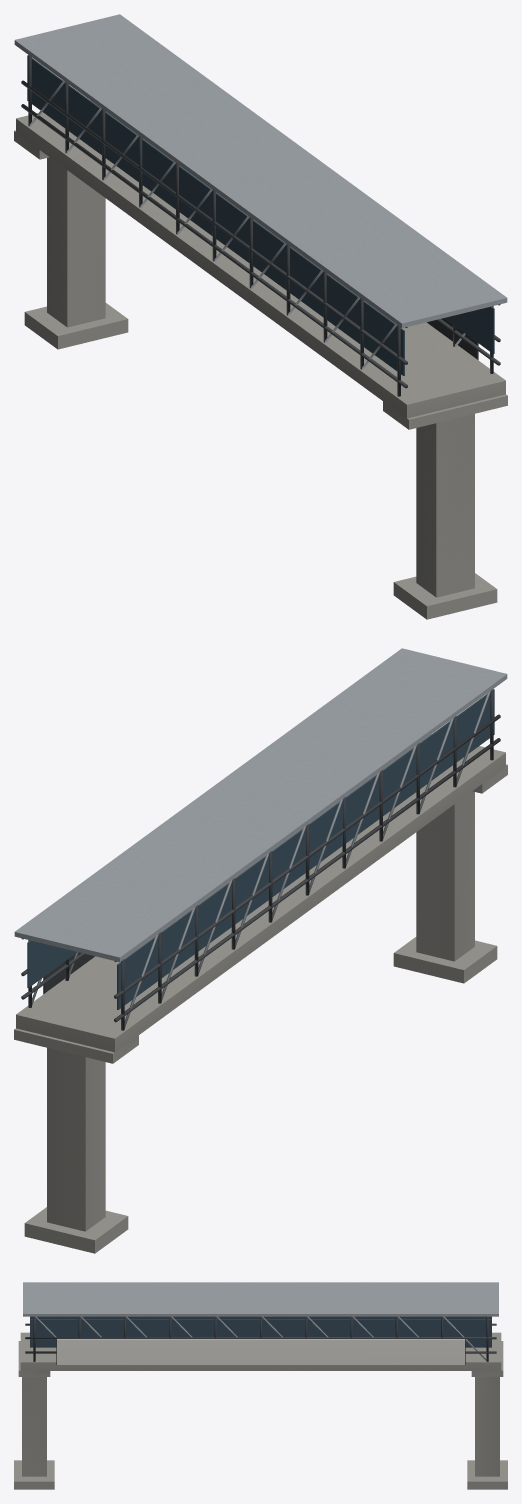
File: pedestrian-bridge_mobile.glb
3 renders of one model, top to bottom at view 1: azimuth 30°, elevation 25°; view 2: azimuth 150°, elevation 25°; view 3: azimuth 270°, elevation 25°, orthographic. The views are drawn at different scales.
Visible parts, largest first — view 1: concrete, galvanised, glazing, dark-steel; view 2: galvanised, concrete, glazing, dark-steel; view 3: galvanised, concrete, board-face, glazing, dark-steel.
Boxes of the visible parts, x1,y1,x2,y2 form: concrete: (14,100,507,619); galvanised: (14,14,507,369); glazing: (27,55,494,375); dark-steel: (21,55,500,396); galvanised: (14,648,507,1028); concrete: (14,734,507,1253); glazing: (27,689,494,1009); dark-steel: (21,689,500,1030); galvanised: (23,1282,498,1361); concrete: (14,1332,507,1489); board-face: (57,1339,464,1364); glazing: (30,1316,491,1347); dark-steel: (25,1316,496,1364).
Bounding box in the file's own units: 3.3 × 8.82 × 21.8.
Materials: 5 (3 with a texture image).
